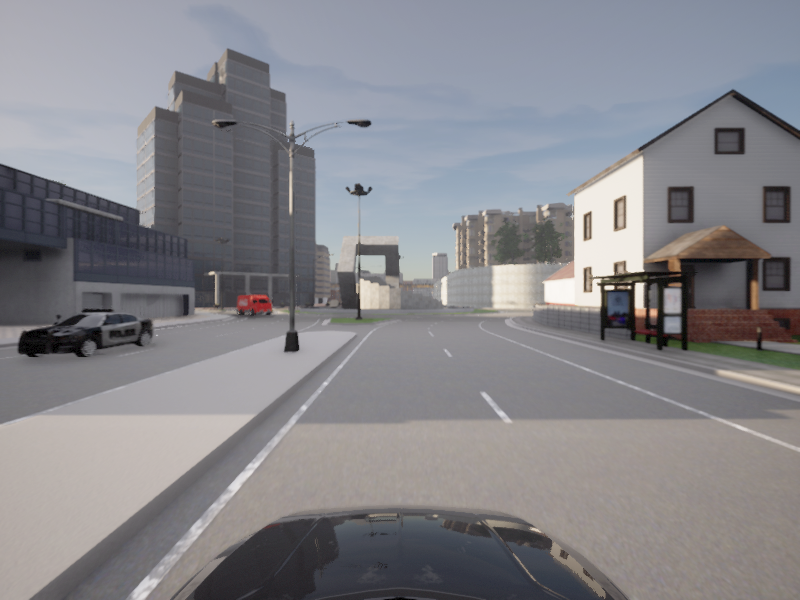vehicle: (0, 306, 160, 362)
